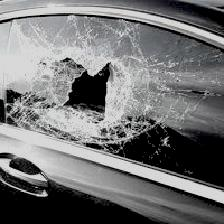glass_shatter: (7, 38, 162, 163)
